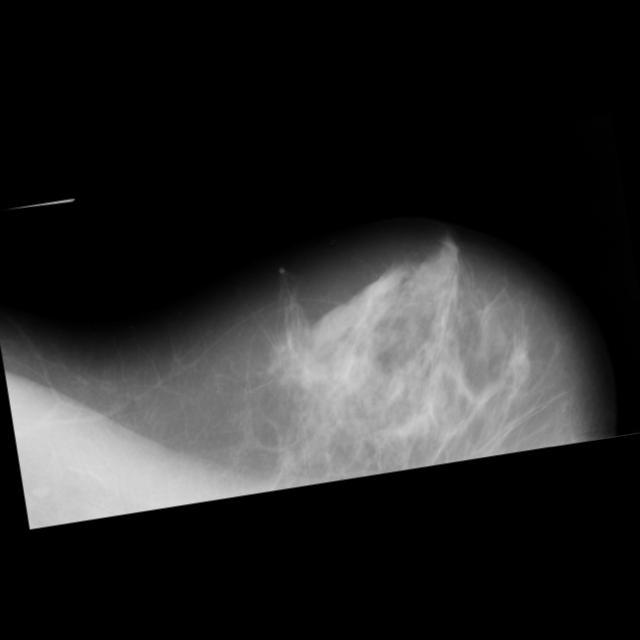ARCH: (0, 62, 322, 347)
